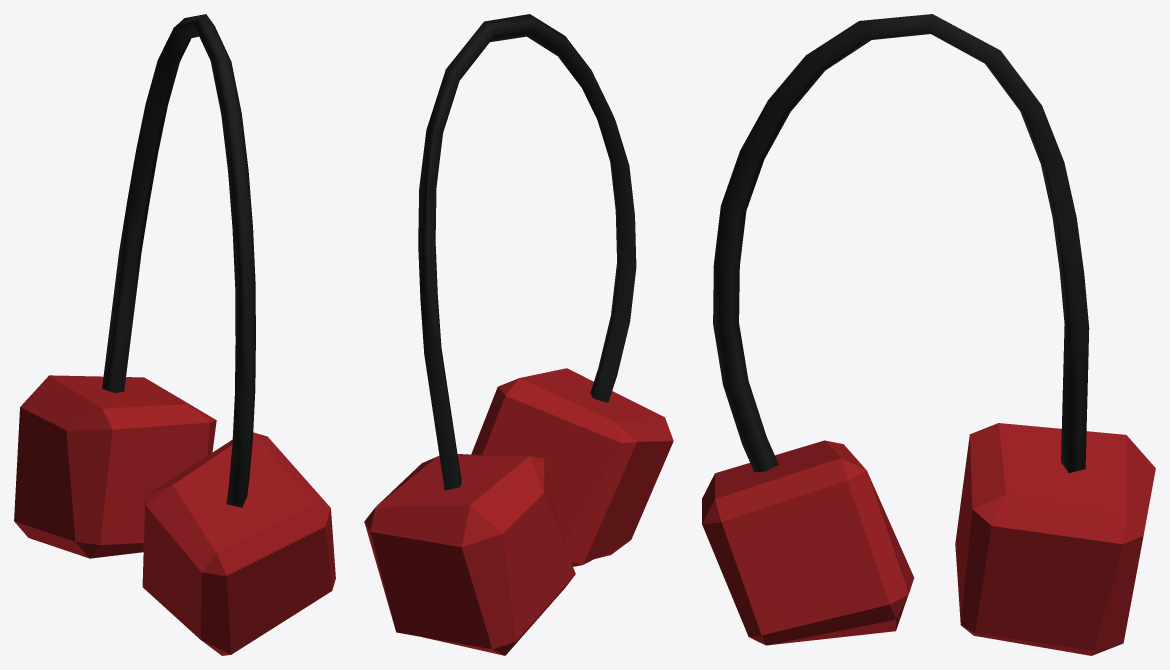
The model's file is Robijnen dobbelstenen.fbx.
3 renders of one model, left to right at view 1: azimuth 30°, elevation 25°; view 2: azimuth 150°, elevation 25°; view 3: azimuth 270°, elevation 25°, orthographic. The views are drawn at different scales.
Visible parts, largest first — view 1: Cylinder.001; view 2: Cylinder.001; view 3: Cylinder.001.
Boxes of the visible parts, x1=… form: Cylinder.001: x1=14, y1=14, x2=335, y2=655; Cylinder.001: x1=364, y1=14, x2=673, y2=655; Cylinder.001: x1=702, y1=14, x2=1155, y2=655.
Size of the model in its own units: 31.28 by 103 by 65.16.
